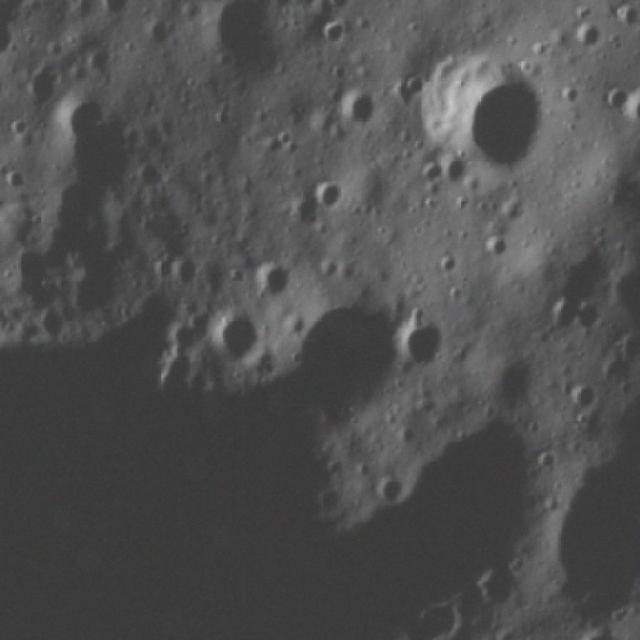crater: (262, 282, 400, 416), (408, 52, 552, 180), (534, 446, 640, 614), (45, 87, 146, 198), (187, 0, 287, 85), (394, 306, 448, 377), (201, 303, 262, 365), (483, 356, 535, 413), (402, 597, 470, 640), (466, 562, 522, 612), (328, 84, 379, 130), (253, 256, 292, 307), (31, 302, 78, 342), (366, 465, 408, 507), (566, 300, 605, 343), (312, 172, 353, 211), (140, 248, 177, 290), (22, 65, 58, 108), (568, 19, 606, 58), (546, 297, 583, 334), (167, 250, 201, 290), (564, 380, 598, 418), (438, 154, 472, 191), (393, 75, 427, 112), (606, 1, 640, 38), (138, 17, 176, 48), (600, 80, 631, 118), (482, 227, 511, 267), (317, 18, 348, 50), (433, 251, 465, 280), (0, 18, 22, 60), (91, 0, 137, 20), (557, 82, 586, 113), (416, 157, 444, 188), (313, 252, 341, 282), (623, 85, 640, 133), (2, 163, 26, 194), (535, 446, 557, 474), (324, 0, 358, 17), (267, 0, 307, 11), (196, 0, 233, 6)
